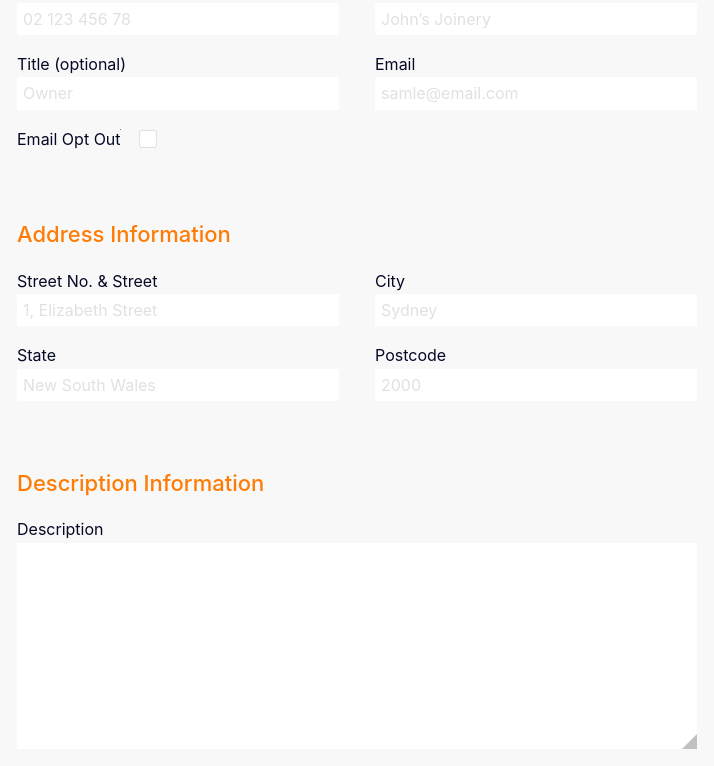
it: should only see Victoria
(page scrolled)
Step 1. Type "Vi" into the field with test id "state" → (178, 385), box [17,369,339,401]
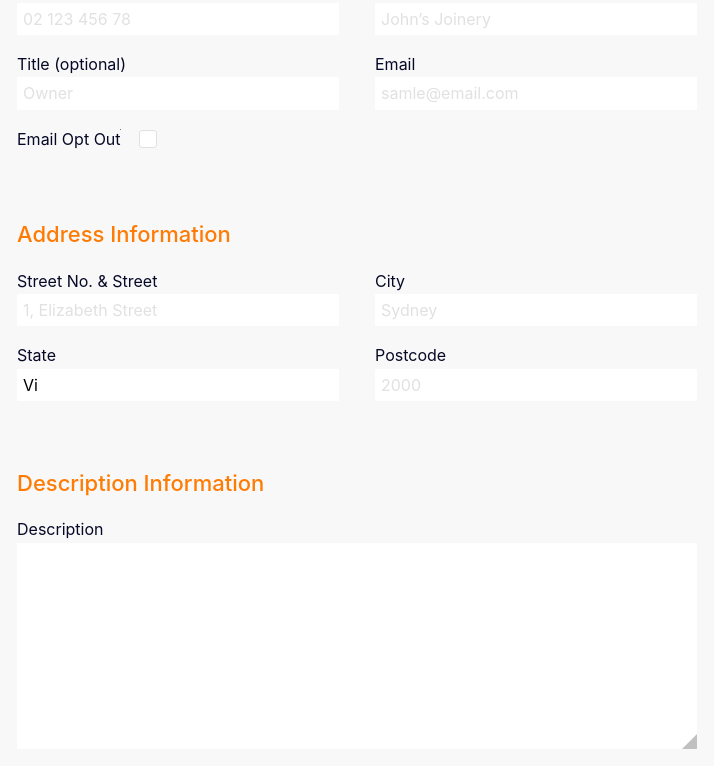
Step 2. Focus the field with test id "state" → (178, 385), box [17,369,339,401]
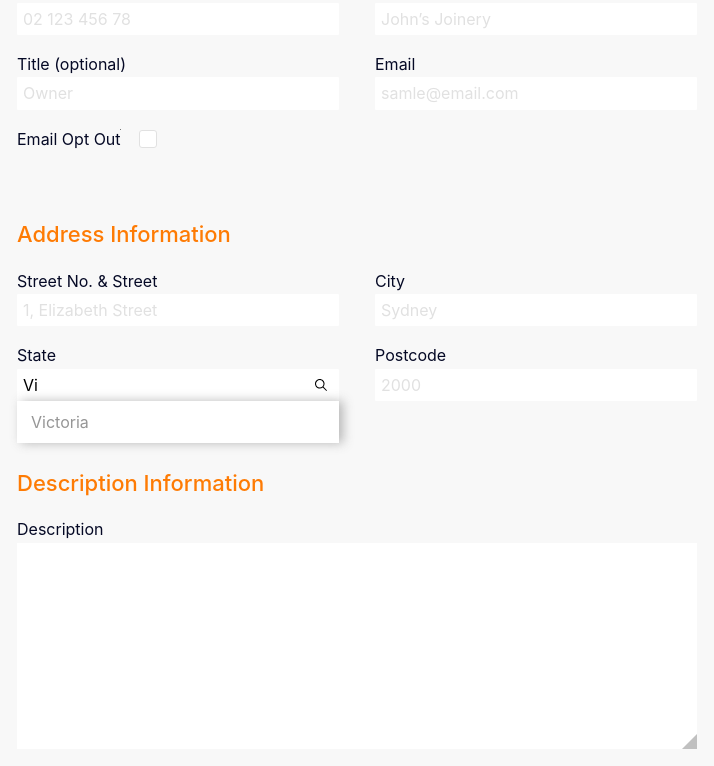
Result: the list item "Victoria" is shown at [31,412,89,432]
